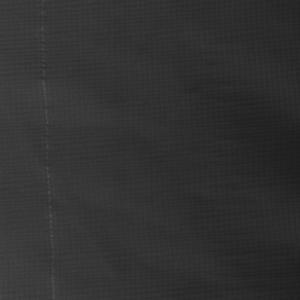Wrinkle: (80, 1, 300, 300)
